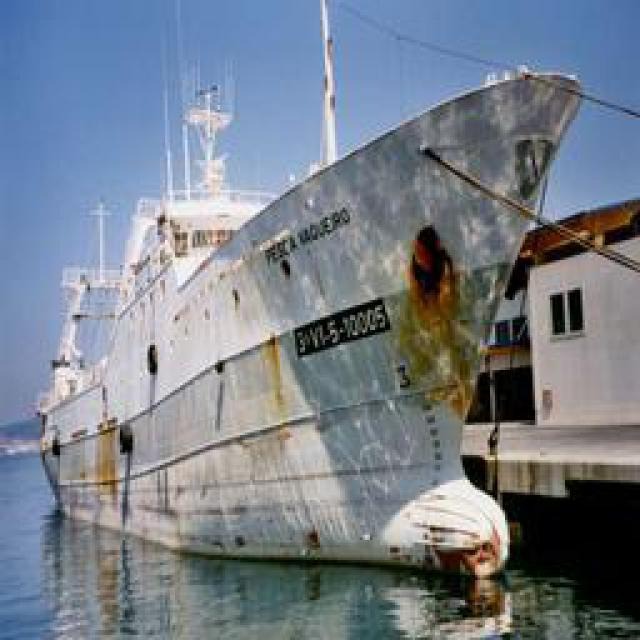Ship: (30, 67, 580, 580)
